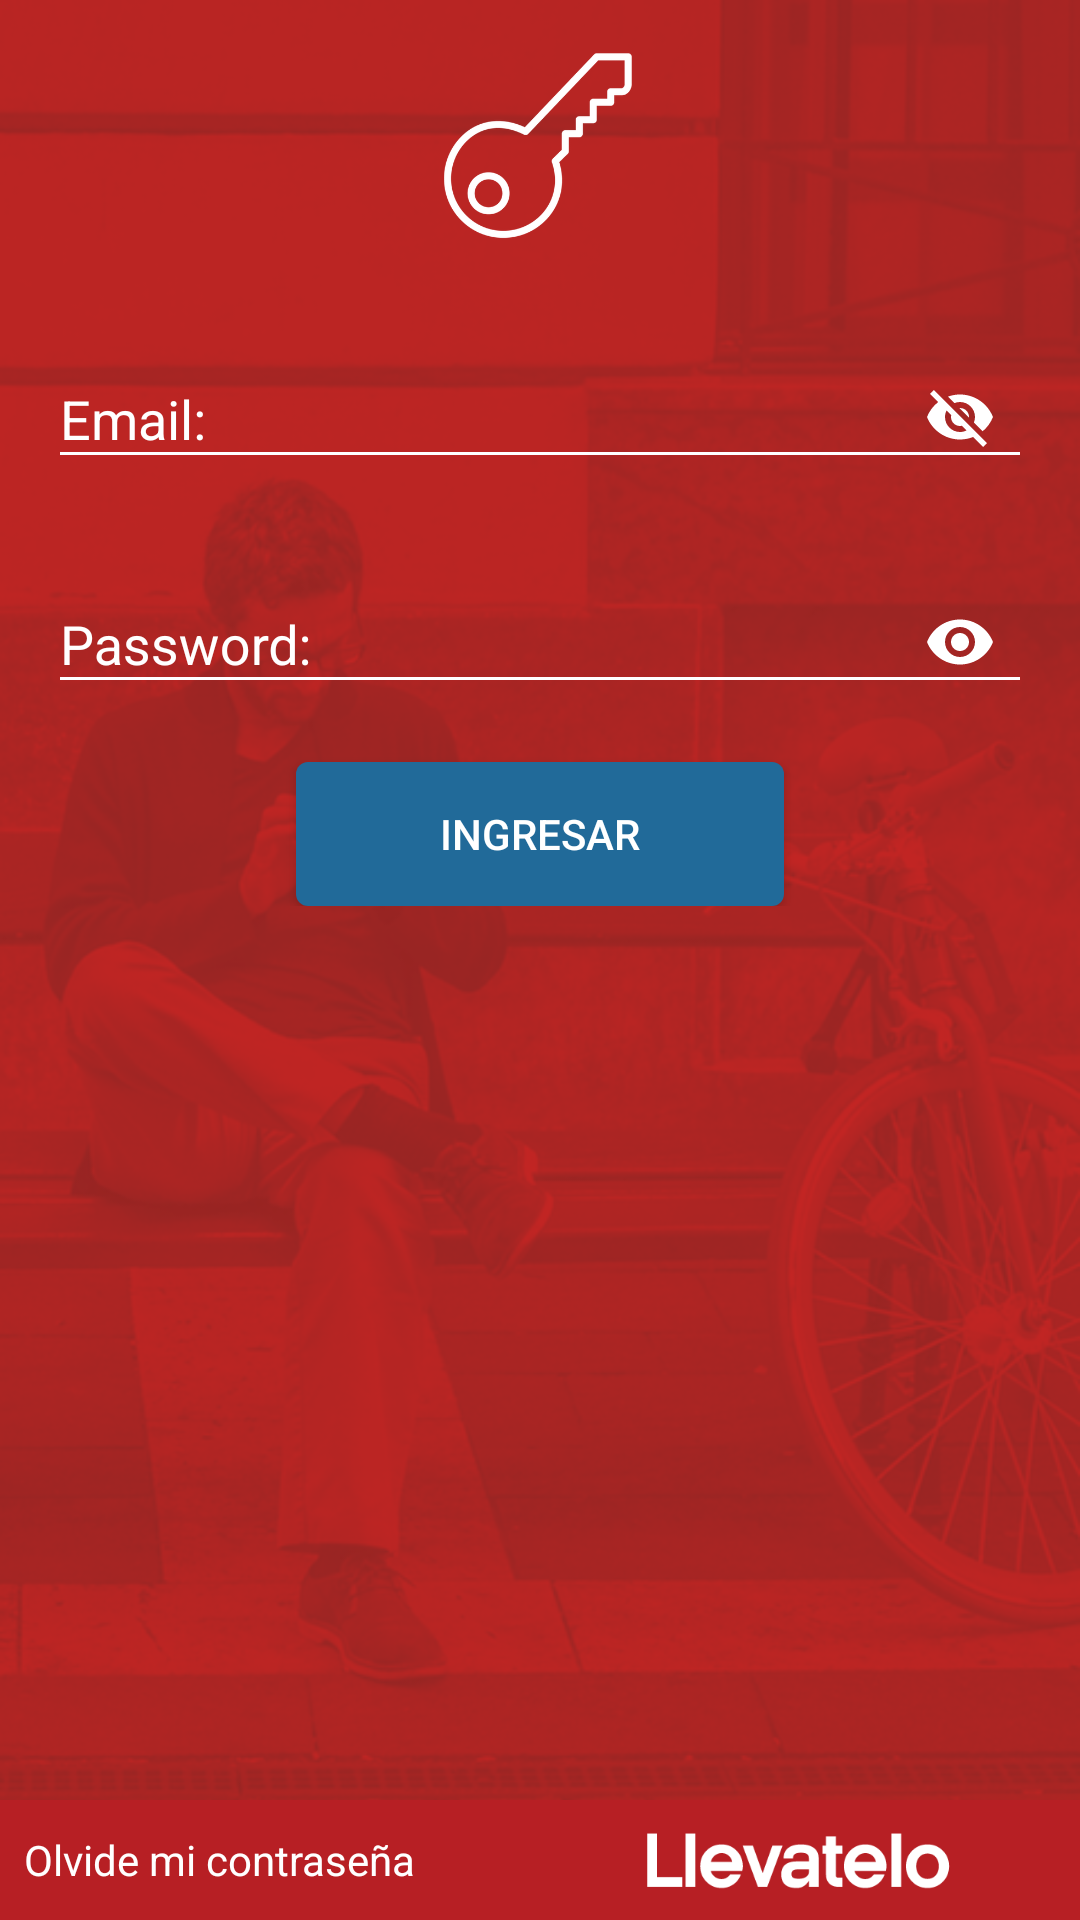

Icon click points for this 1080px×1920px phone screenshot, format point (x, y):
login: point (540, 145)
